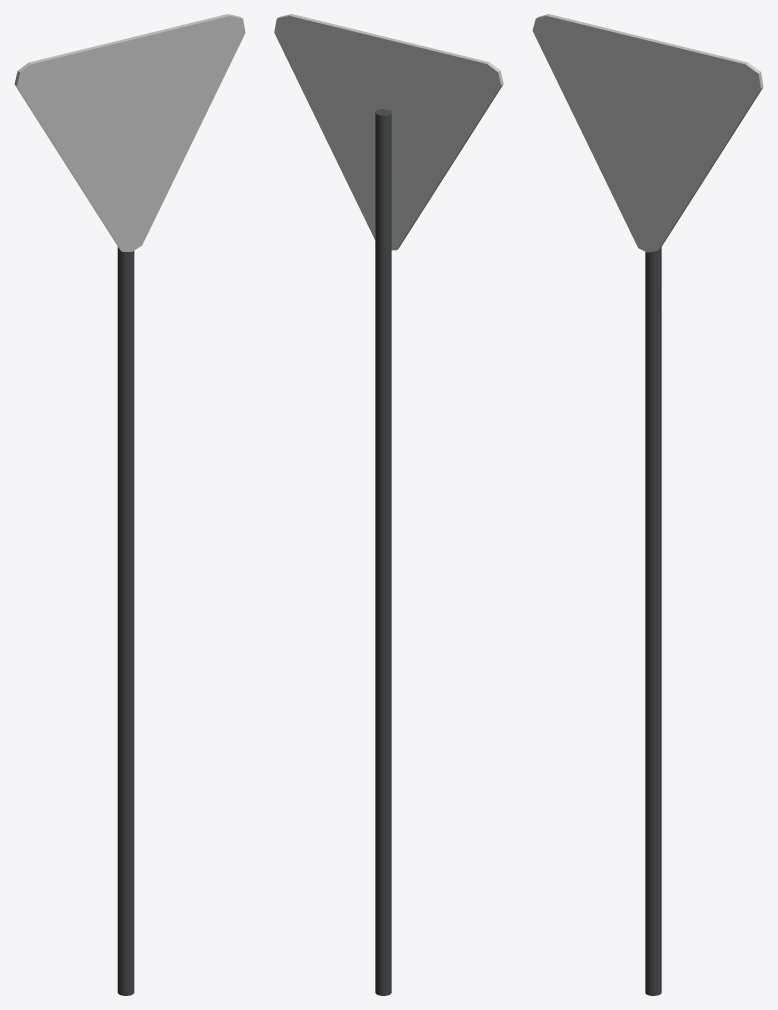
Rendered from YeildSign.fbx.
3 views of the same model, side by side, from view 1: azimuth 30°, elevation 25°; view 2: azimuth 150°, elevation 25°; view 3: azimuth 330°, elevation 25° (orthographic).
Visible parts, largest first — view 1: Sign, Post; view 2: Sign, Post; view 3: Sign, Post.
Boxes of the visible parts, x1,y1,x2,y2 form: Sign: (14,14,245,251); Post: (117,247,134,995); Sign: (274,14,503,250); Post: (375,109,391,995); Sign: (532,14,763,252); Post: (645,247,661,995).
Size of what is drawn, in the model's own units: 160 by 639 by 12.24.
